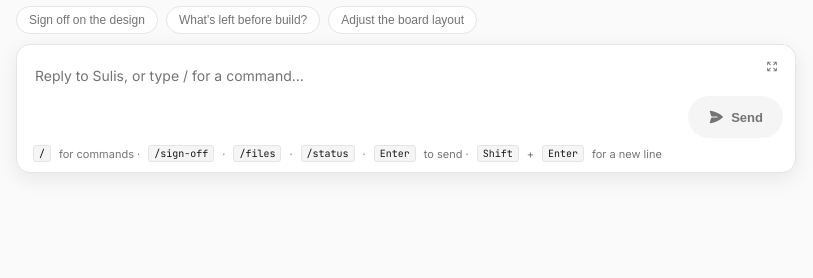
Scenario: <Composer /> — the docked write surface (signed contract) › renders the streamed reply live and joins it on complete (FR-17/18)
This screenshot has width=813, height=278.
Type "hi" into the text box named "message this change's agent" at (354, 98), box [29,57,678,138]
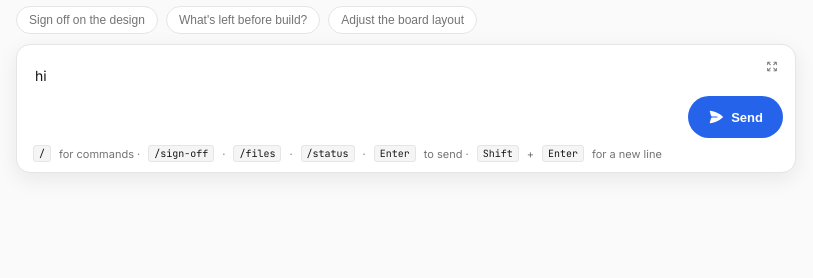
Press Enter in the text box named "message this change's agent", box [29,57,678,138]
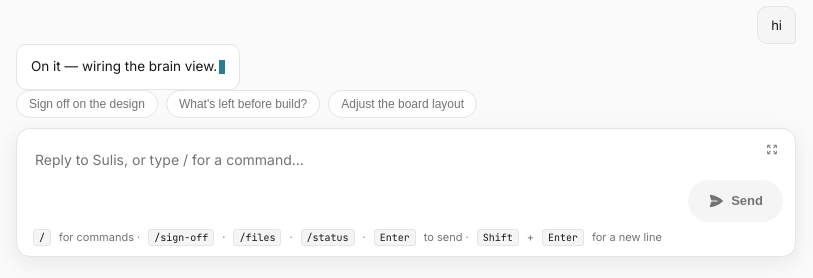
Now the element with test id "agent-reply" shows "wiring the brain view.", box [31,58,217,74]
